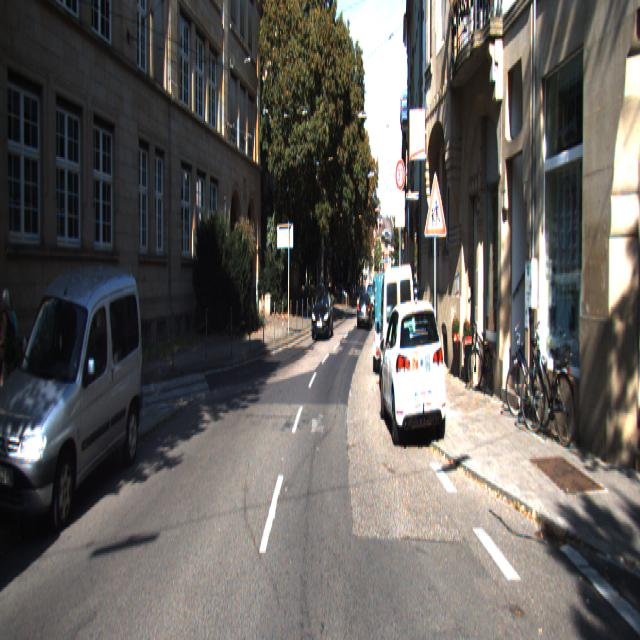Car: (0, 260, 147, 559), (378, 294, 448, 456), (377, 260, 417, 410), (311, 290, 335, 343), (357, 290, 372, 333)
